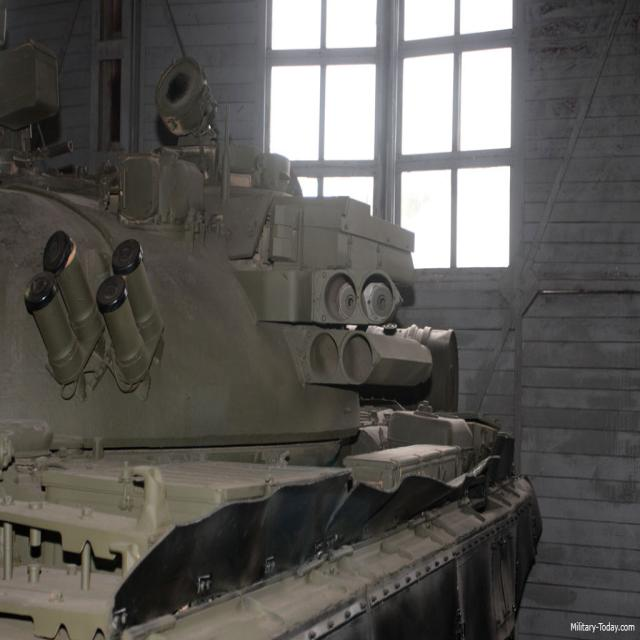Tank: (0, 142, 538, 628)
